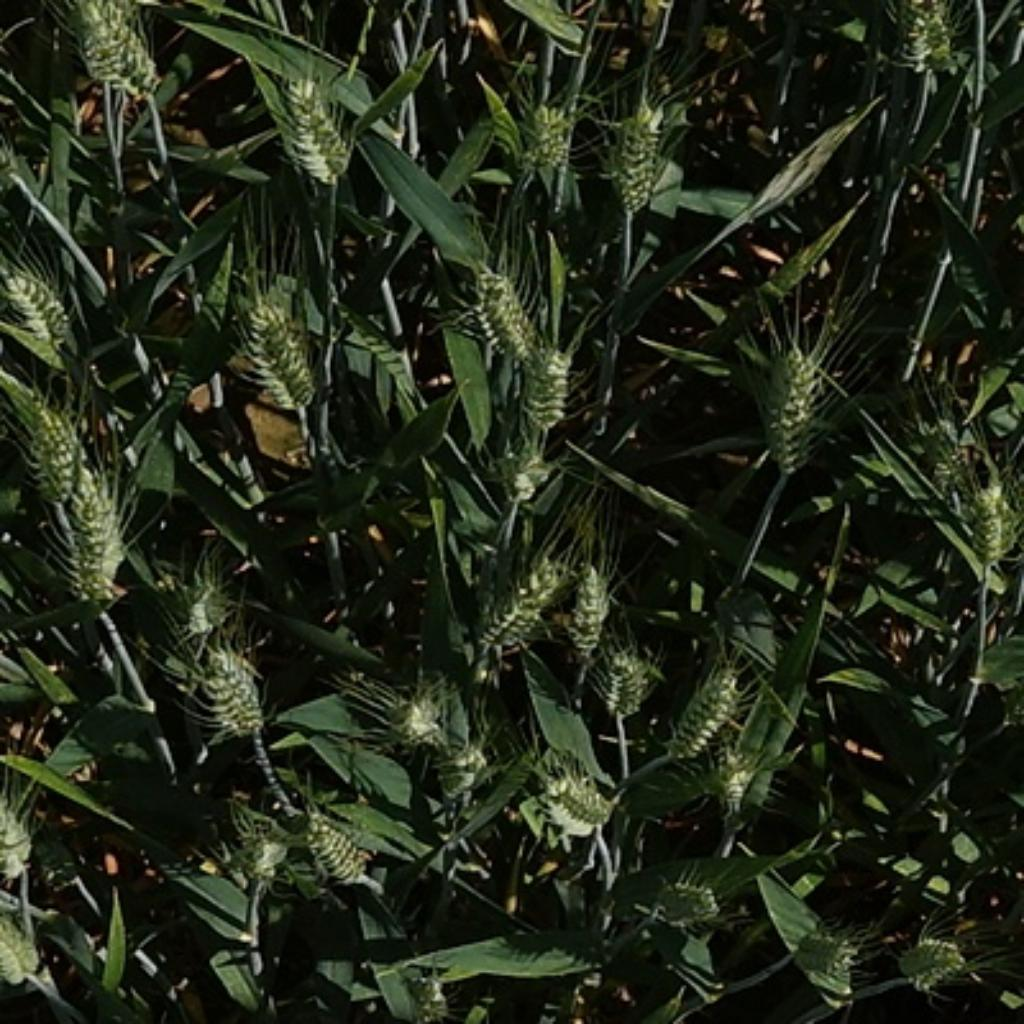0-0: (53, 431, 145, 612), (744, 325, 829, 476), (471, 555, 570, 668), (10, 384, 94, 514), (460, 253, 545, 373), (274, 58, 353, 187), (237, 291, 318, 416), (494, 317, 583, 430), (596, 94, 673, 217), (291, 796, 376, 906), (186, 634, 268, 737), (672, 651, 745, 752), (552, 552, 622, 655), (948, 460, 1016, 565), (8, 265, 75, 362), (471, 430, 555, 506), (535, 760, 616, 837), (97, 17, 166, 107), (163, 563, 240, 640), (373, 681, 451, 757), (893, 2, 970, 76), (225, 808, 286, 898), (515, 89, 581, 172), (706, 739, 770, 820), (394, 953, 465, 1024), (794, 924, 863, 994), (595, 646, 654, 719), (898, 932, 968, 990), (437, 739, 494, 809), (652, 875, 725, 928), (79, 2, 125, 84)
